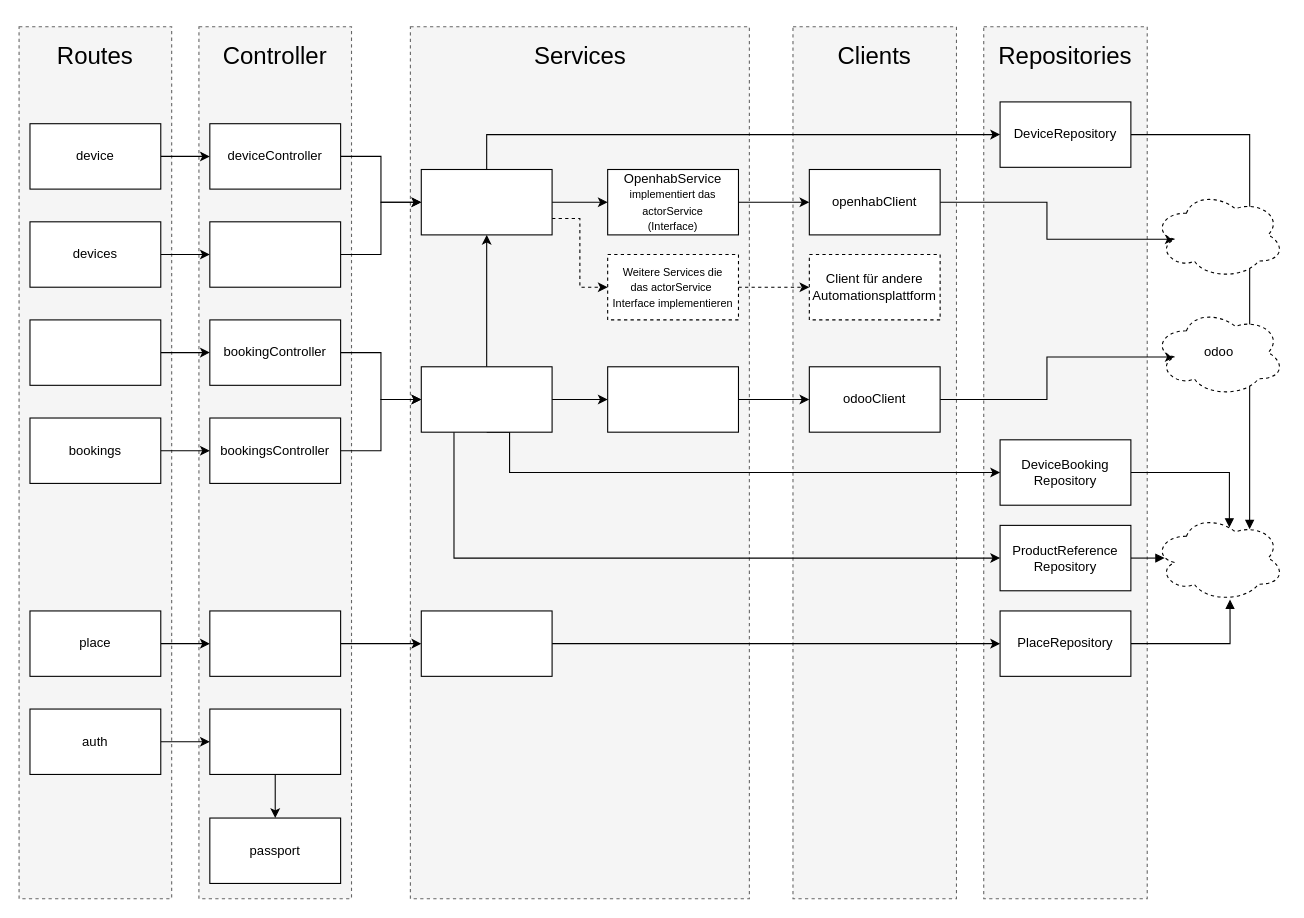
Some shapes in this 1304 by 918 pixel diagram are drawn without their labels. The centre of each missing label's shape, as x and y in pixels:
"authController" belongs at (275,741).
"booking" belongs at (95,352).
"DeviceBooking Service" belongs at (486,399).
"devicesController" belongs at (275,254).
"DeviceService" belongs at (486,201).
"MongoDB" belongs at (1219,557).
"openhab" belongs at (1219,234).
"placeController" belongs at (275,643).
"PlaceService" belongs at (486,643).
"UserService" belongs at (672,399).
